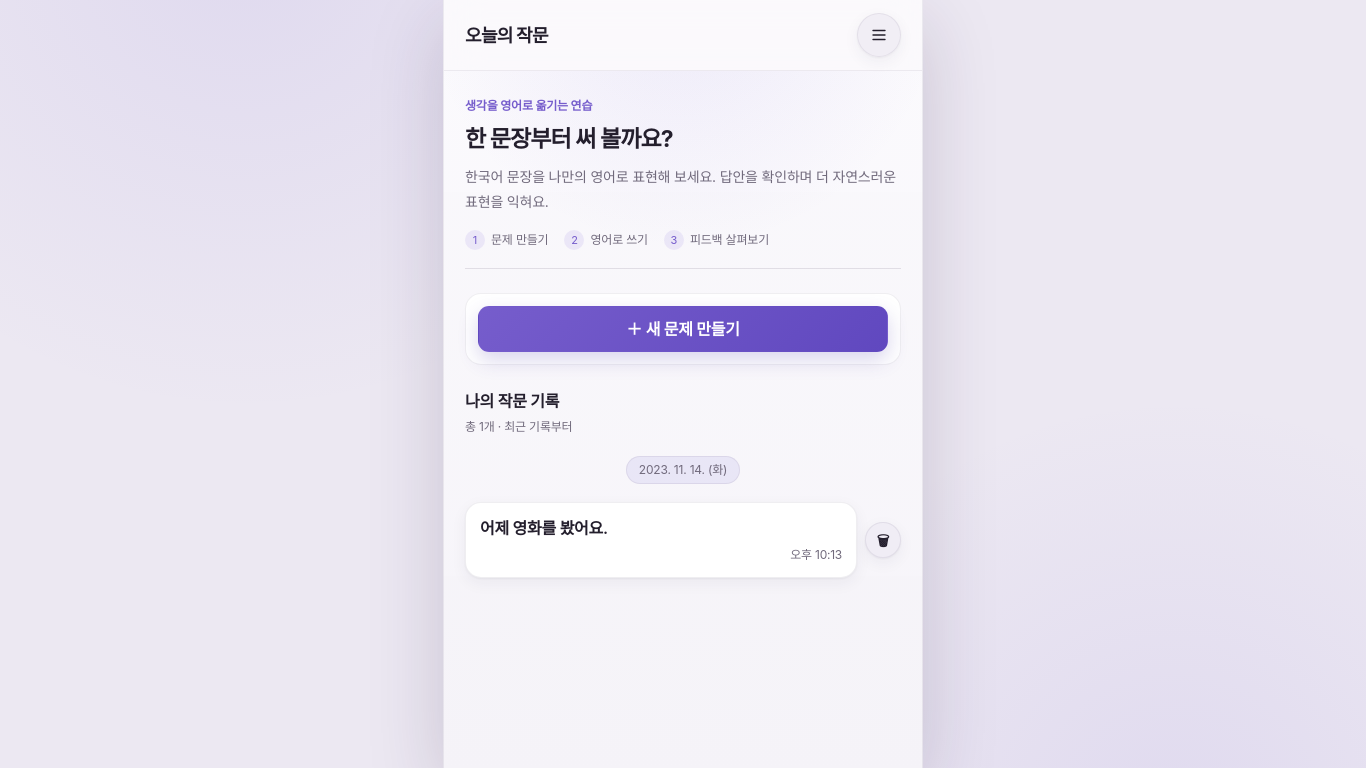
Test case: Writing page list/detail flow › offers the same word search while writing an answer
The width and height of the screenshot is (1366, 768).
Click the button "어제 영화를 봤어요. 오후 10:13" at (544, 528), box [465, 502, 857, 578]
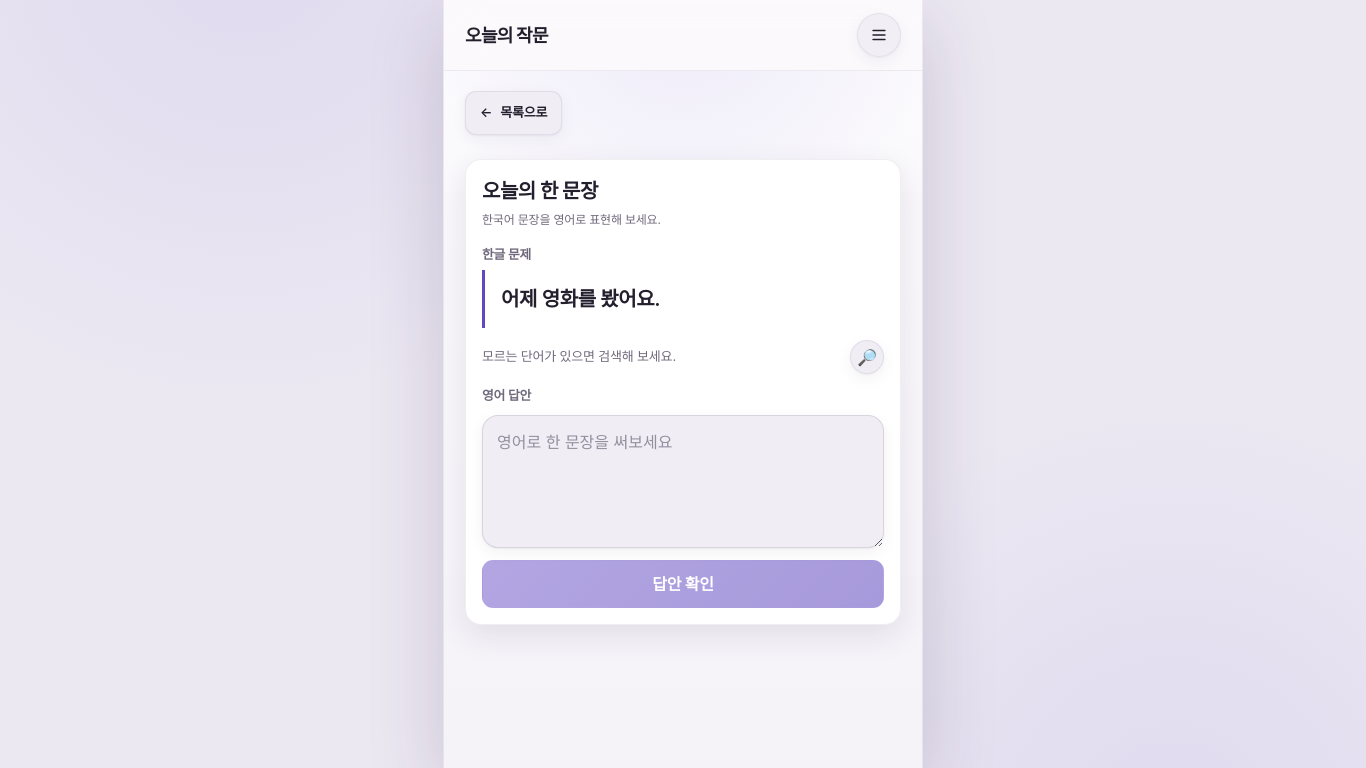
Click the button named "모르는 단어 찾기" at (867, 357), box [850, 340, 884, 374]
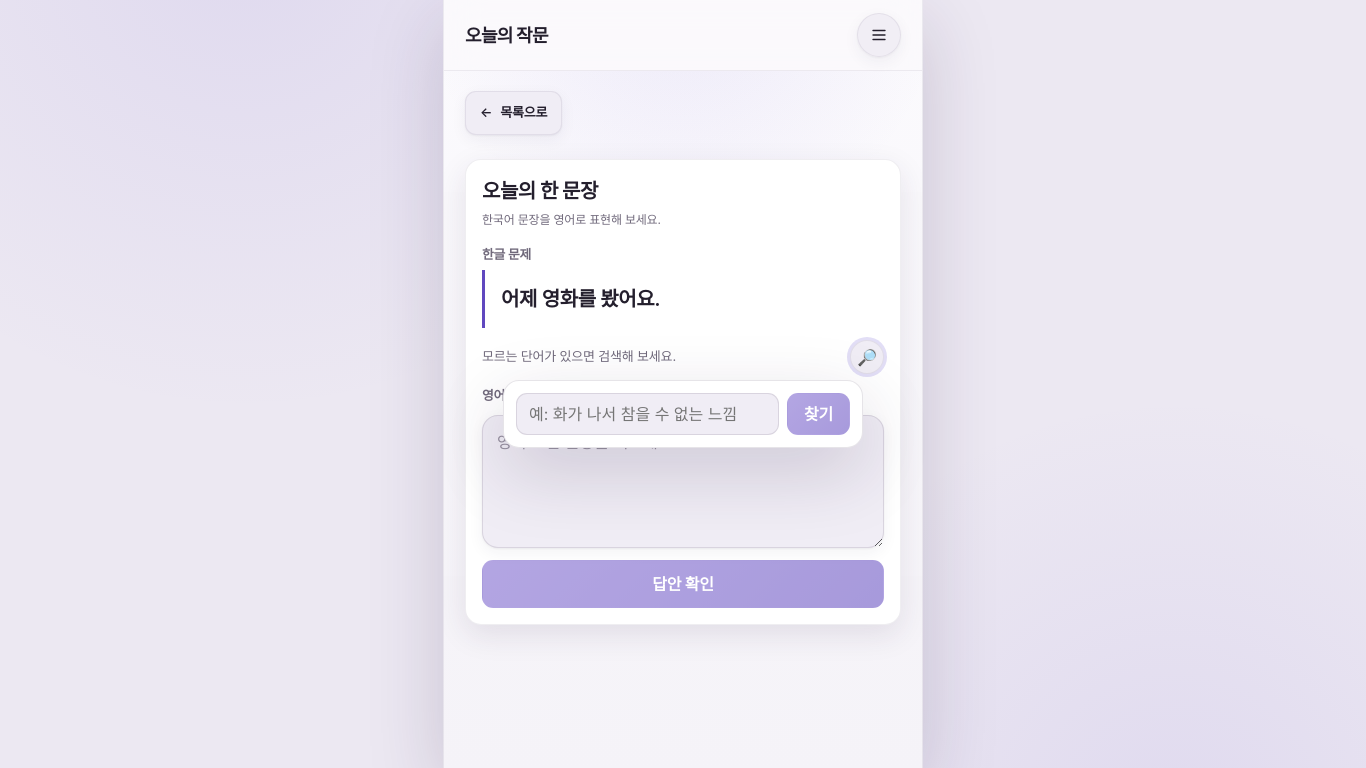
expect the form "찾기" is shown: met, box [516, 393, 850, 435]
Type "보다의 과거형" into the field with placeholder "예: 화가 나서 참을 수 없는 느낌" at (648, 414), box [516, 393, 779, 435]
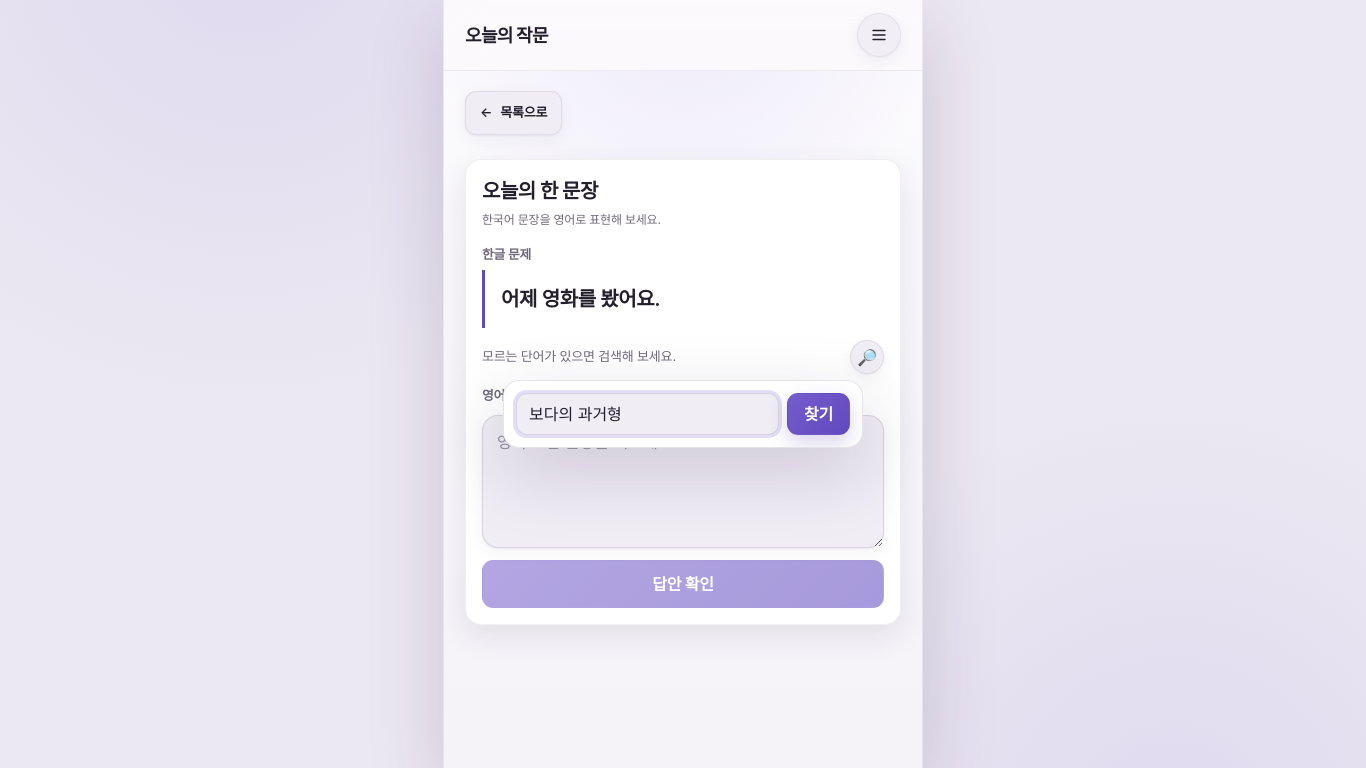
Click the button "찾기" at (818, 414), box [787, 393, 850, 435]
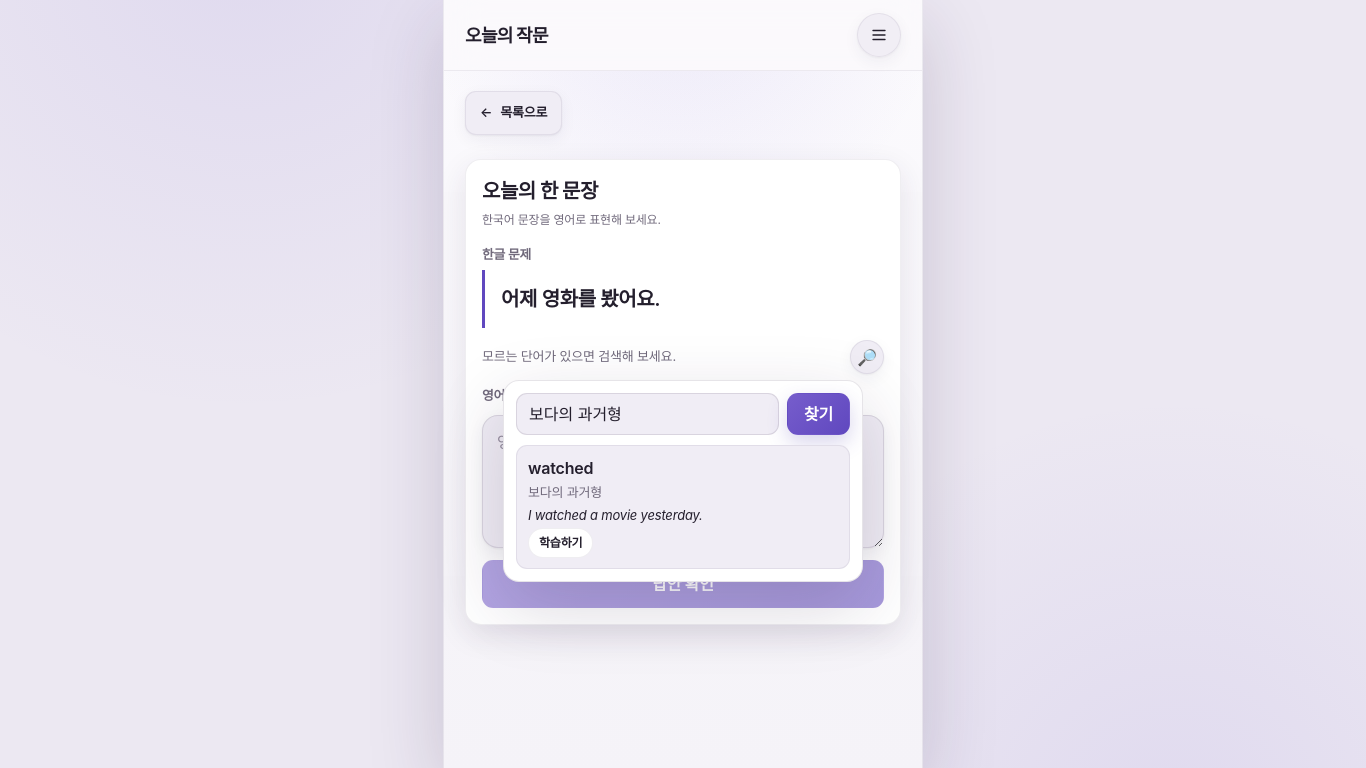
expect the text box with placeholder "영어로 한 문장을 써보세요" is shown: met, box [482, 415, 884, 548]
expect the text "watched" is shown: met, box [528, 458, 593, 478]
